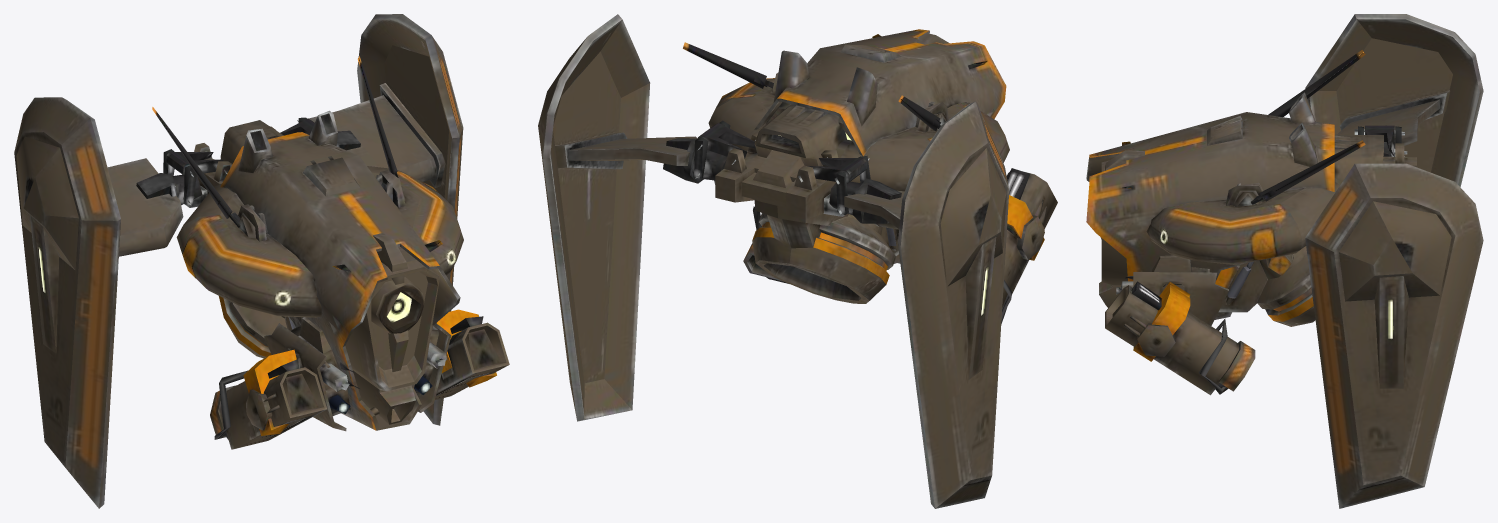
The model's file is turret-1-3.glb.
3 views of the same model, side by side, from view 1: azimuth 30°, elevation 25°; view 2: azimuth 150°, elevation 25°; view 3: azimuth 270°, elevation 25° (orthographic). The views are drawn at different scales.
Parts seen in each view (by area): view 1: turret-1-3_0; view 2: turret-1-3_0; view 3: turret-1-3_0.
Part boxes in pixels (bbox=[...]): turret-1-3_0: bbox=[14, 14, 509, 508]; turret-1-3_0: bbox=[538, 14, 1057, 508]; turret-1-3_0: bbox=[1086, 14, 1483, 508].
Size of the model in its own units: 1 by 0.8947 by 0.9324.
Materials: 1 (1 with a texture image).
